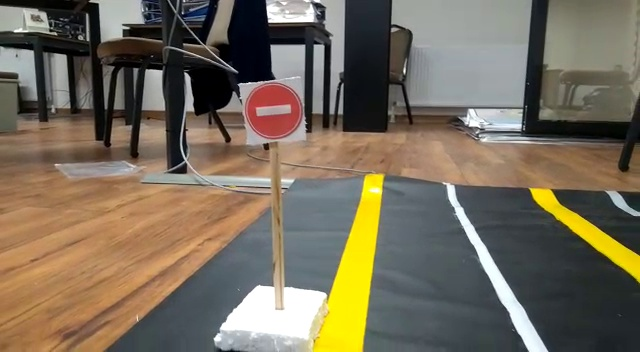girisi_olmayan_yol: (243, 80, 307, 140)
